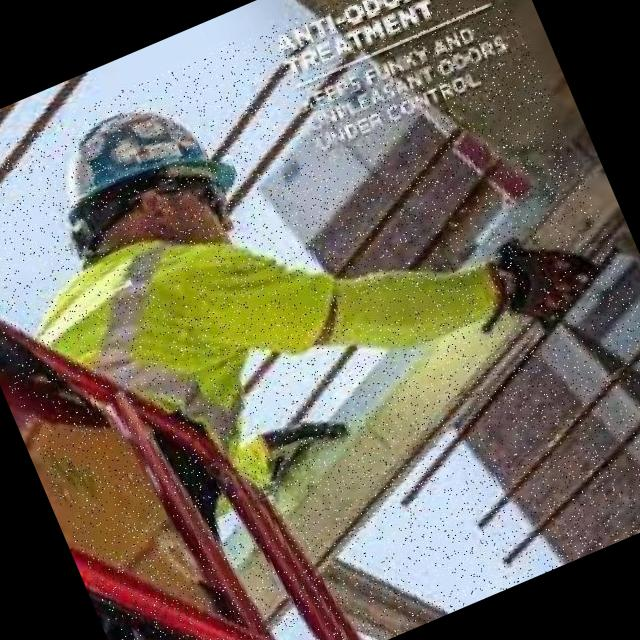hard_hat: (26, 76, 241, 252)
safety_vest: (9, 176, 398, 557)
vehicle: (0, 0, 640, 640)
